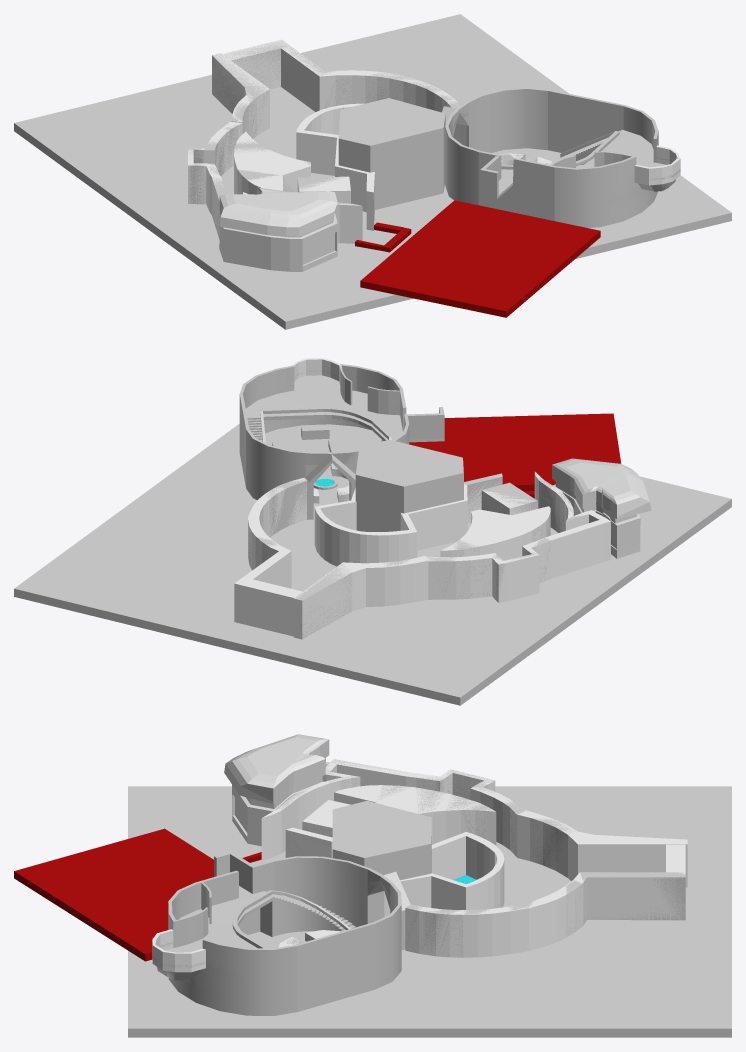
Rendered from shady_med1.fbx.
The picture shows the model from 3 angles, top to bottom: view 1: azimuth 30°, elevation 25°; view 2: azimuth 150°, elevation 25°; view 3: azimuth 270°, elevation 25°; orthographic projection. The views are drawn at different scales.
Parts seen in each view (by area): view 1: Floor, Cathedral Form, Death Floor, Facility, Cube, West Entrance, Outer Mail Area, East Center Area, East Entrance, Mail Block, Outer Mail Area_1, East Entrance_1 (+7 smaller); view 2: Floor, Cathedral Form, Death Floor, Outer Mail Area, Facility, East Entrance, Cube, East Center Area, West Entrance, Mail Block, Entrance, West Center Area (+10 smaller); view 3: Floor, Cathedral Form, Death Floor, West Entrance, Outer Mail Area, Cube, East Entrance, Facility, Mail Block, East Center Area, West Center Area, West Entrance_1 (+9 smaller).
Part boxes in pixels (x1,y1,x2,y2): Floor: (14, 14, 731, 329); Cathedral Form: (442, 87, 675, 227); Death Floor: (360, 200, 600, 317); Facility: (338, 98, 445, 209); Cube: (219, 187, 337, 271); West Entrance: (273, 39, 457, 112); Outer Mail Area: (188, 121, 362, 243); East Center Area: (296, 110, 374, 230); East Entrance: (212, 53, 269, 138); Mail Block: (234, 131, 310, 194); Outer Mail Area_1: (188, 124, 357, 237); East Entrance_1: (212, 53, 269, 137); Floor: (14, 424, 731, 705); Cathedral Form: (239, 364, 409, 519); Death Floor: (409, 413, 621, 491); Outer Mail Area: (425, 472, 610, 602); Facility: (355, 440, 463, 531); East Entrance: (293, 556, 428, 639); Cube: (552, 458, 651, 558); East Center Area: (360, 474, 502, 563); West Entrance: (234, 478, 307, 622); Mail Block: (440, 506, 550, 560); Entrance: (237, 578, 302, 636); West Center Area: (314, 488, 356, 566); Floor: (128, 786, 731, 1037); Cathedral Form: (157, 856, 410, 1015); Death Floor: (14, 828, 213, 961); West Entrance: (405, 872, 685, 957); Outer Mail Area: (261, 759, 524, 860); Cube: (224, 734, 329, 846); East Entrance: (517, 810, 687, 887); Facility: (332, 801, 431, 880); Mail Block: (334, 785, 496, 845); East Center Area: (285, 827, 502, 879); West Center Area: (384, 864, 502, 916); West Entrance_1: (405, 872, 685, 957).
Size of what is drawn, in the model's own units: 15758 by 2481 by 19732.
